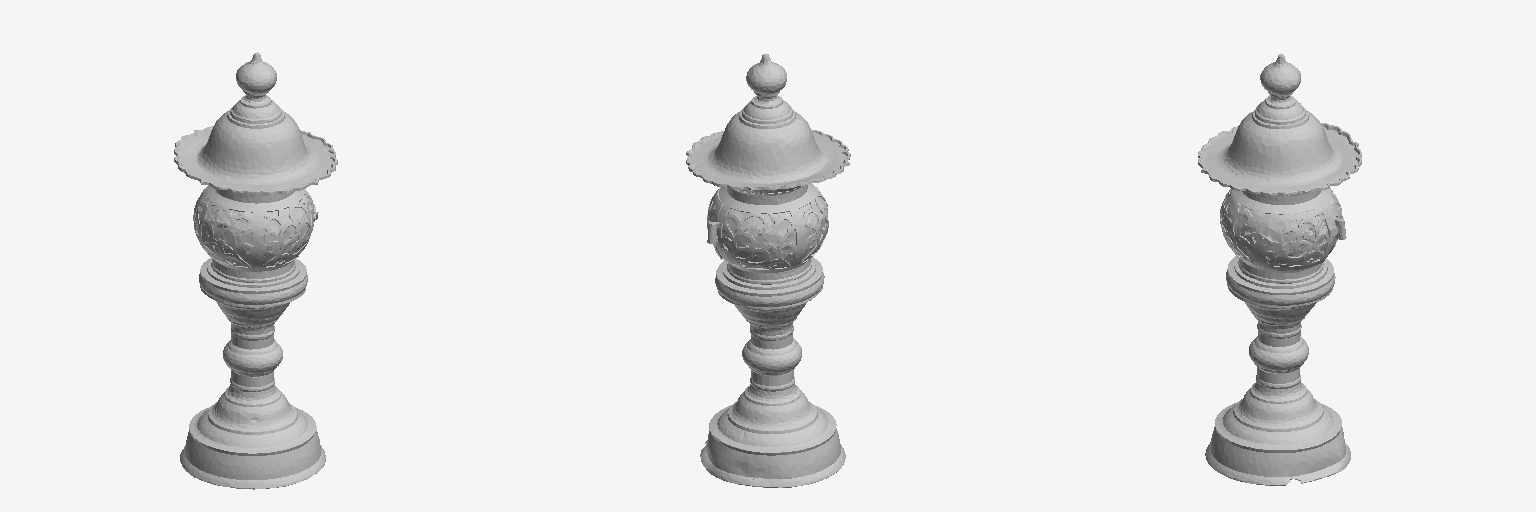
3 views of the same model, side by side, from view 1: azimuth 30°, elevation 25°; view 2: azimuth 150°, elevation 25°; view 3: azimuth 270°, elevation 25° (orthographic).
Parts seen in each view (by area): view 1: Aset_interior_furniture_S_veplchiqx_LOD0; view 2: Aset_interior_furniture_S_veplchiqx_LOD0; view 3: Aset_interior_furniture_S_veplchiqx_LOD0.
Boxes of the visible parts, box(x1,y1,x2,y2) form: Aset_interior_furniture_S_veplchiqx_LOD0: box(174, 52, 337, 489); Aset_interior_furniture_S_veplchiqx_LOD0: box(686, 54, 850, 487); Aset_interior_furniture_S_veplchiqx_LOD0: box(1198, 54, 1361, 485).
Size of the model in its own units: 0.2947 by 0.7922 by 0.2935.